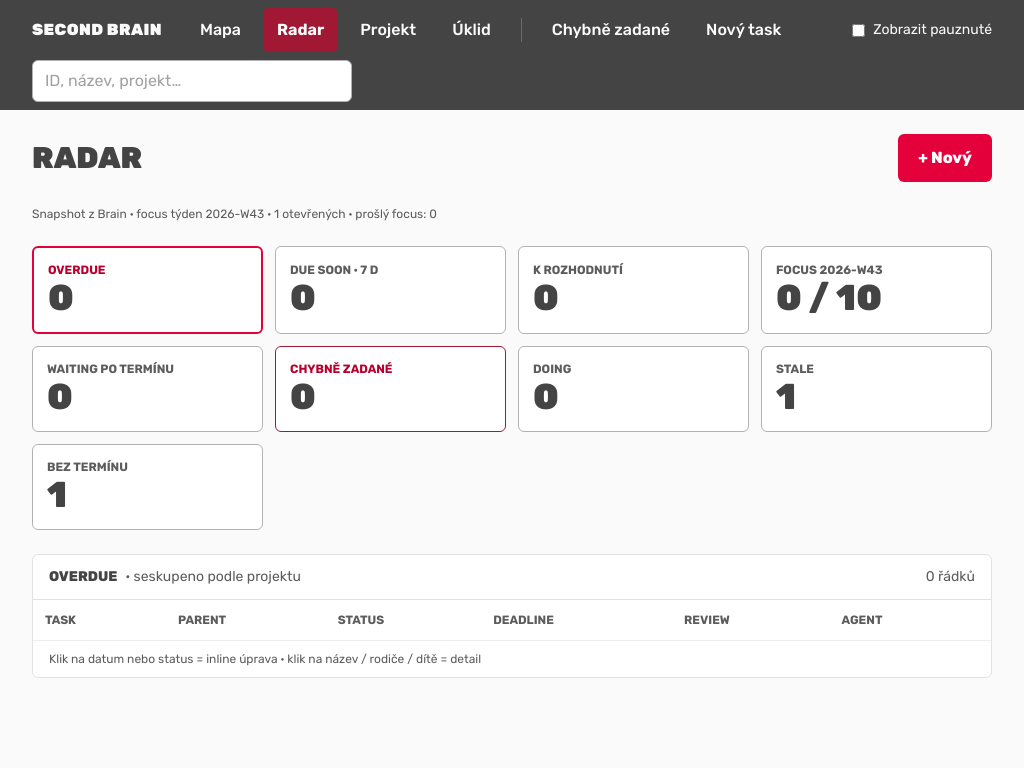
screens › Chybně zadané shows rule glossary
This screenshot has width=1024, height=768.
What coordinates should you click on to do the following:
click the button "Chybně zadané"
I would click on:
 (611, 30)
Its box is [538,8,684,52].
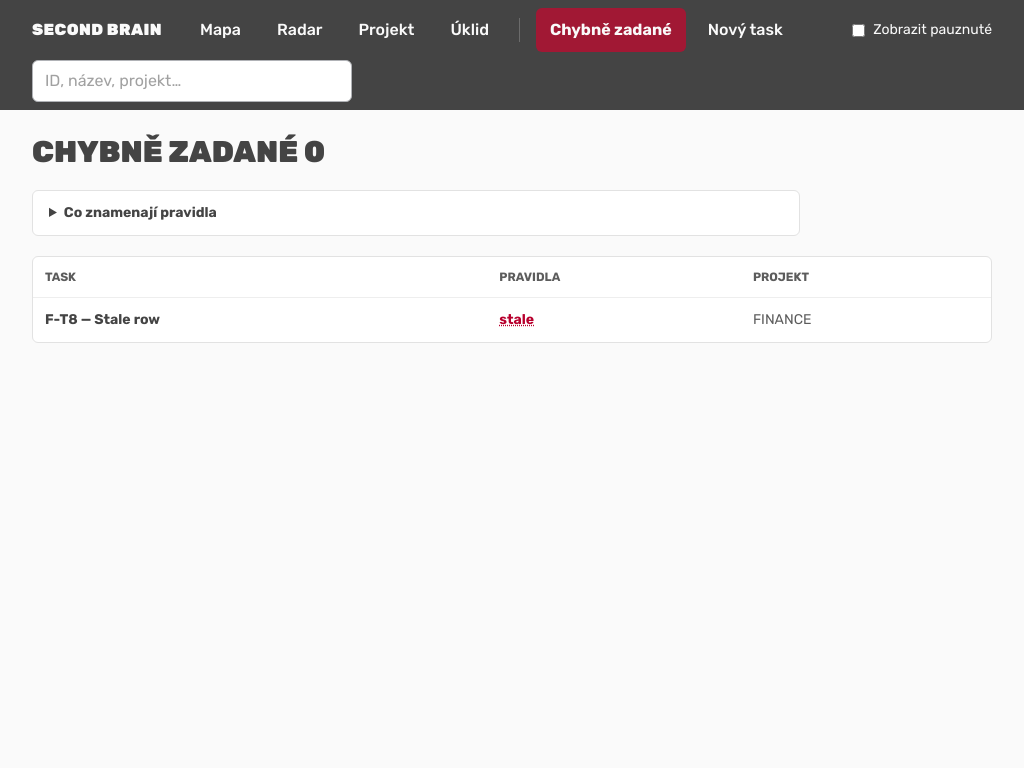
What coordinates should you click on to do the following:
click the heading "Co znamenají pravidla"
I would click on:
 (140, 212)
Its box is [64,204,217,221].
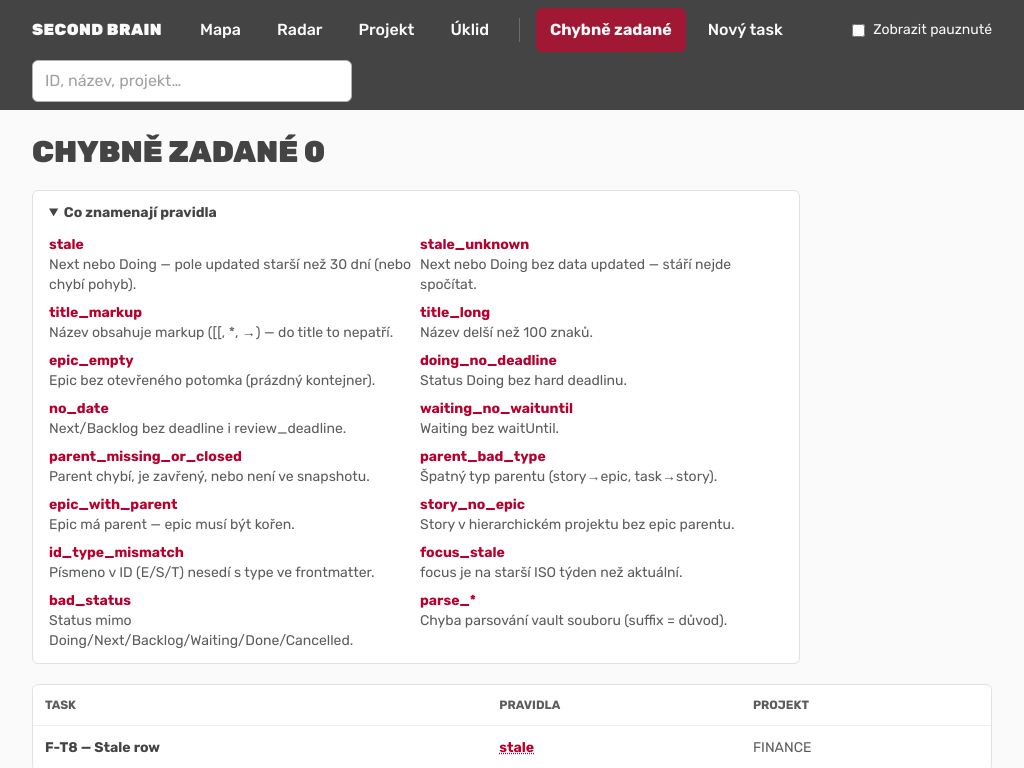
Expected: the text titled "30 dní" in the row of "FINANCE" is shown, [499,738,534,758]
Expected: the text "Next nebo Doing — pole updated starší" is shown, [49,256,411,293]
